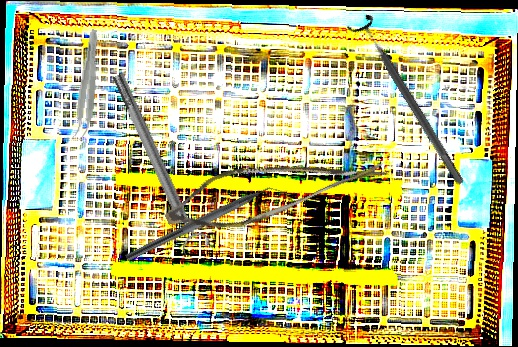Chopper: (123, 175, 290, 273)
Fixation Ring: (345, 10, 474, 192), (104, 68, 212, 257)
Micro Scissor: (158, 110, 391, 265)
Tissue Forceps: (71, 28, 102, 141)
